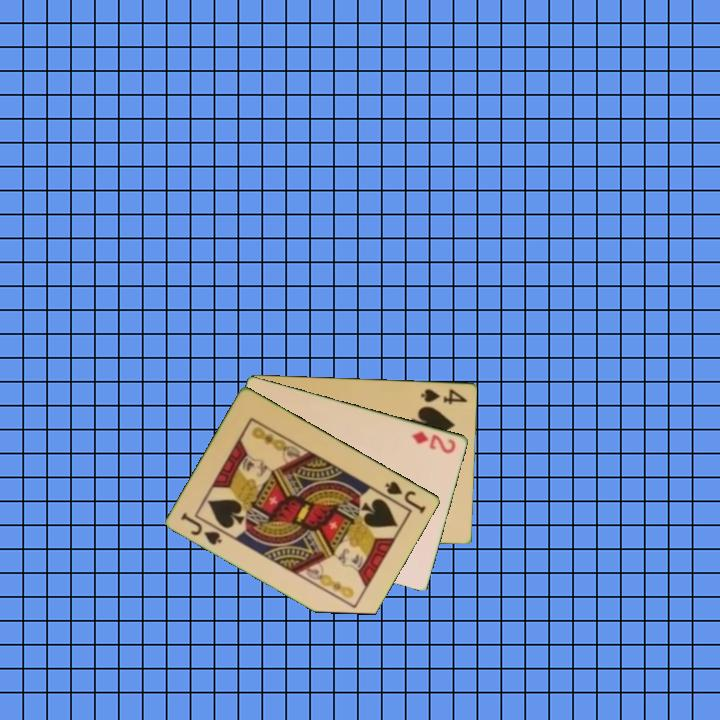2d: (409, 427, 459, 456)
4s: (418, 385, 471, 407)
Js: (177, 508, 229, 548), (382, 477, 429, 516)
